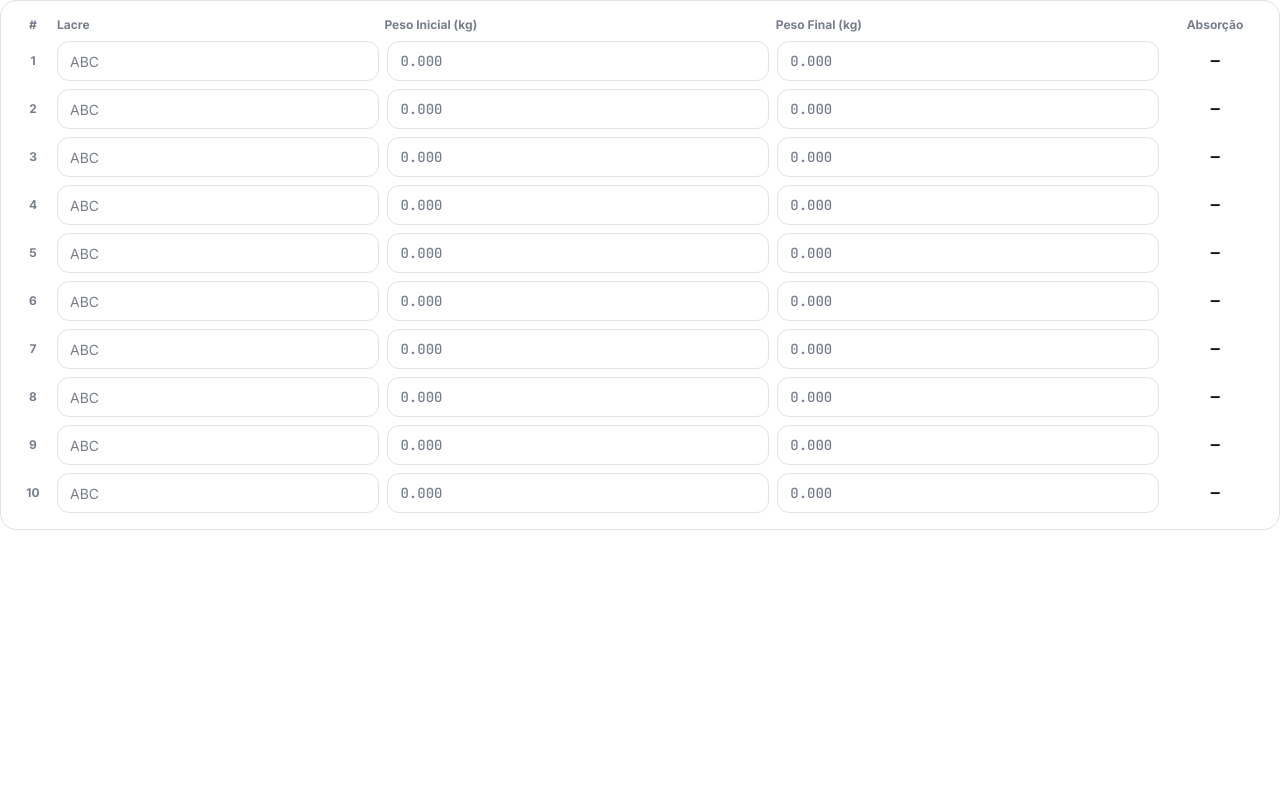
Test: A) Teste de Absorção de Água — tela › acima de 8% mostra o selo em vermelho; 8,00% exato não
The width and height of the screenshot is (1280, 800).
Type "10" into the 1st number field with placeholder "0.000" at (578, 61), box x1=388 y1=41 x2=769 y2=81
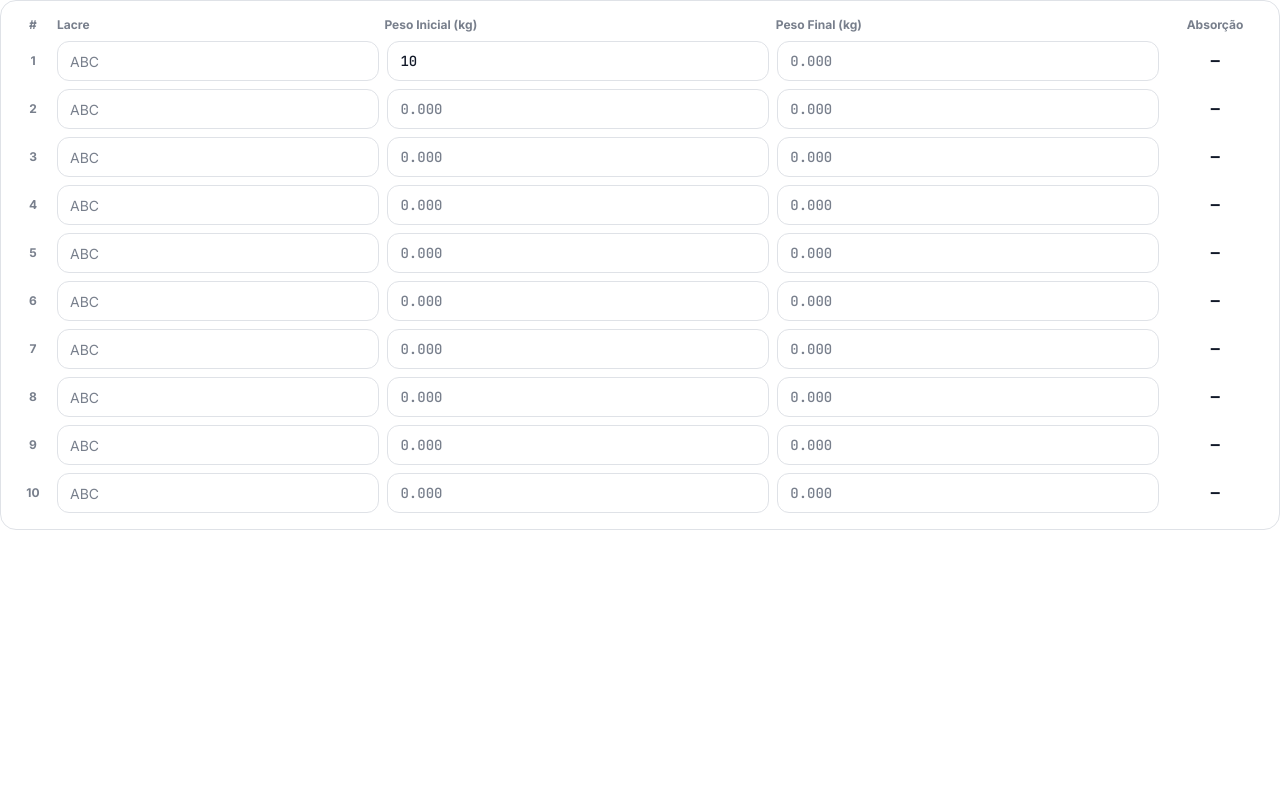
Type "10.8" into the 1st number field with placeholder "0.000" at (968, 61), box x1=777 y1=41 x2=1159 y2=81
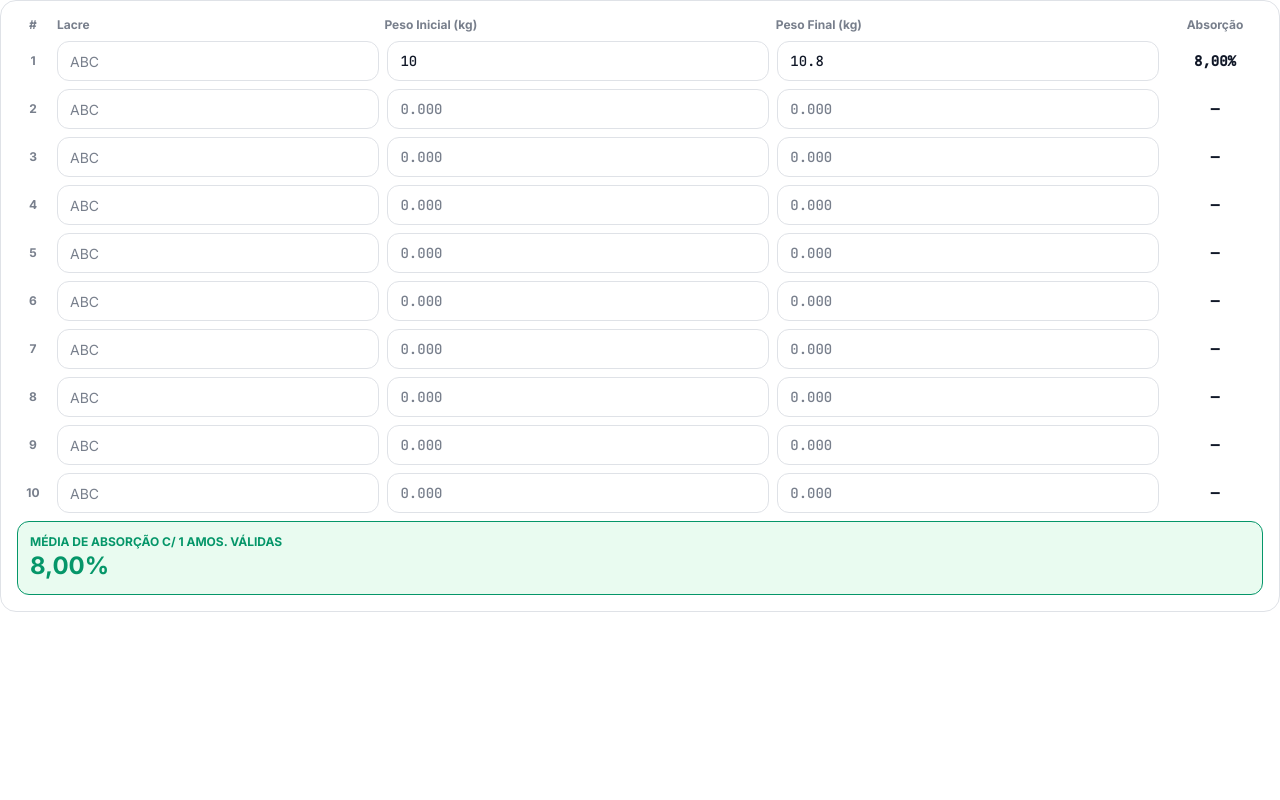
Expected: the text "ACIMA DO LIMITE" is not shown
Now the text with test id "media-absorcao" reads "8,00%", box x1=30 y1=551 x2=109 y2=580
Replace the text in the 2nd number field with placeholder "0.000" with "10.9" at (968, 61), box x1=777 y1=41 x2=1159 y2=81
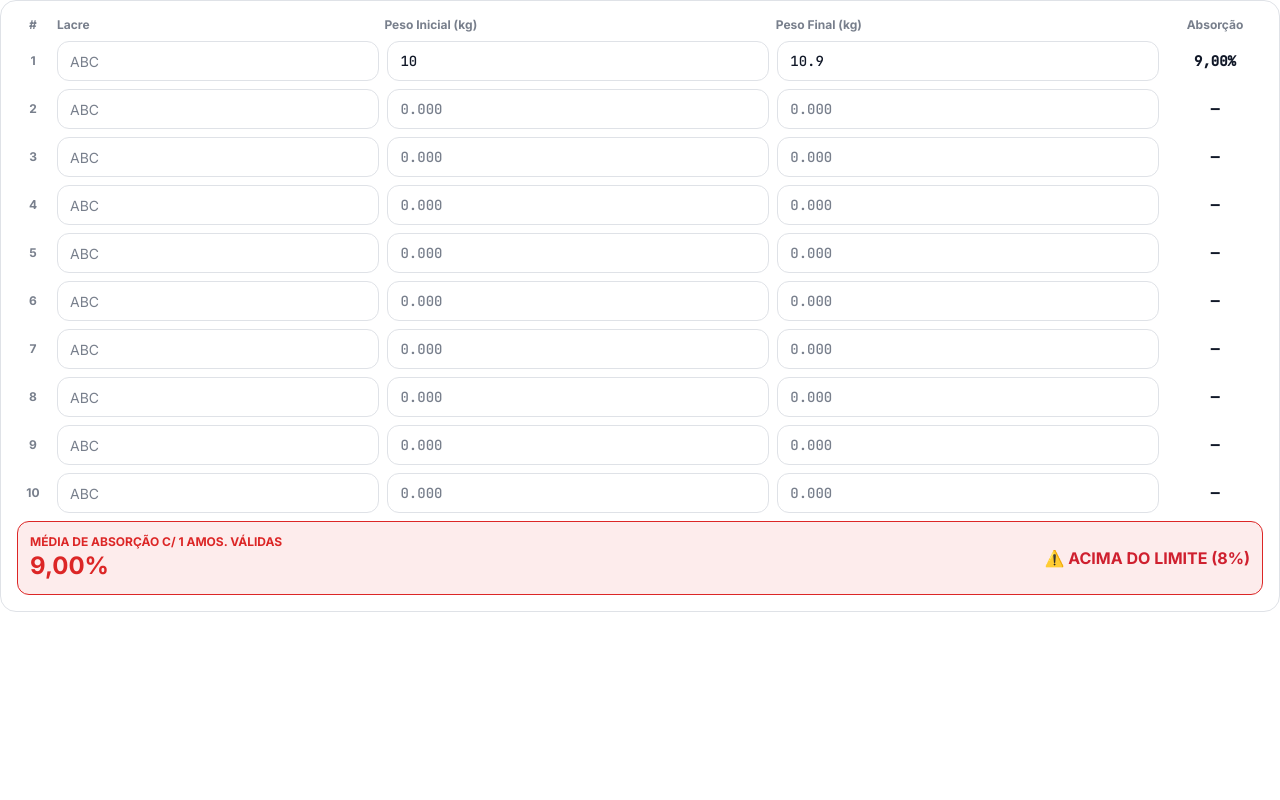
Now the text "⚠️ ACIMA DO LIMITE (8%)" is shown, box x1=1044 y1=546 x2=1250 y2=570
